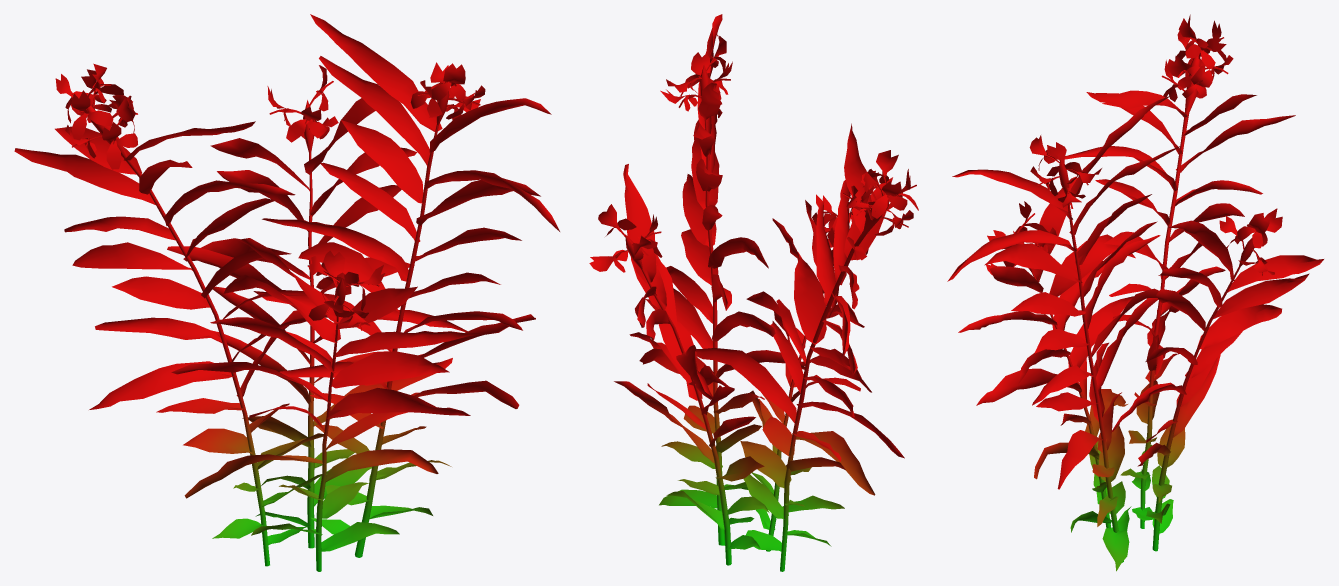
File: F01_GingerLily_01.fbx
The picture shows the model from 3 angles, left to right: view 1: azimuth 30°, elevation 25°; view 2: azimuth 150°, elevation 25°; view 3: azimuth 270°, elevation 25°; orthographic projection. The views are drawn at different scales.
Parts seen in each view (by area): view 1: _bd7a_Var1_LOD0; view 2: _bd7a_Var1_LOD0; view 3: _bd7a_Var1_LOD0.
Part boxes in pixels (x1=…): _bd7a_Var1_LOD0: x1=14, y1=14, x2=559, y2=571; _bd7a_Var1_LOD0: x1=589, y1=14, x2=918, y2=571; _bd7a_Var1_LOD0: x1=947, y1=14, x2=1323, y2=571.
Size of the model in its own units: 103 by 136 by 101.
